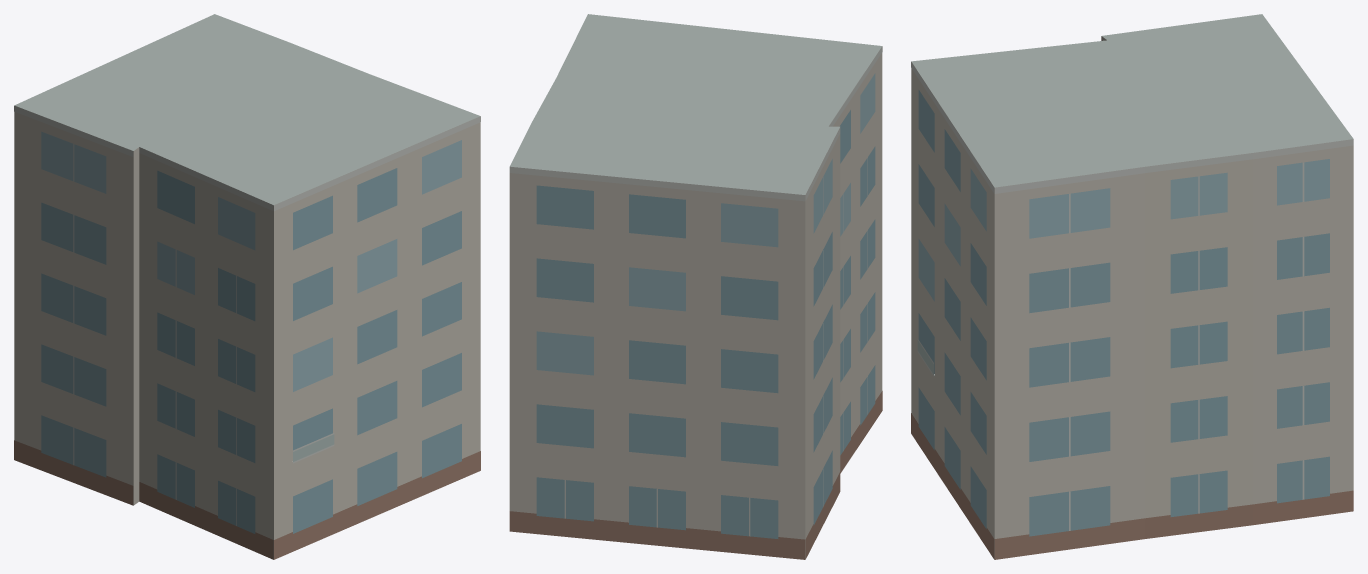
File: survey-upis-33019711.glb
The picture shows the model from 3 angles, left to right: view 1: azimuth 30°, elevation 25°; view 2: azimuth 150°, elevation 25°; view 3: azimuth 270°, elevation 25°; orthographic projection. The views are drawn at different scales.
Parts seen in each view (by area): view 1: survey-upis-33019711.tmp; view 2: survey-upis-33019711.tmp; view 3: survey-upis-33019711.tmp.
Boxes of the visible parts, x1,y1,x2,y2 form: survey-upis-33019711.tmp: (14, 14, 480, 559); survey-upis-33019711.tmp: (509, 14, 882, 559); survey-upis-33019711.tmp: (911, 14, 1353, 559).
Size of the model in its own units: 14.21 by 14.2 by 15.31.
